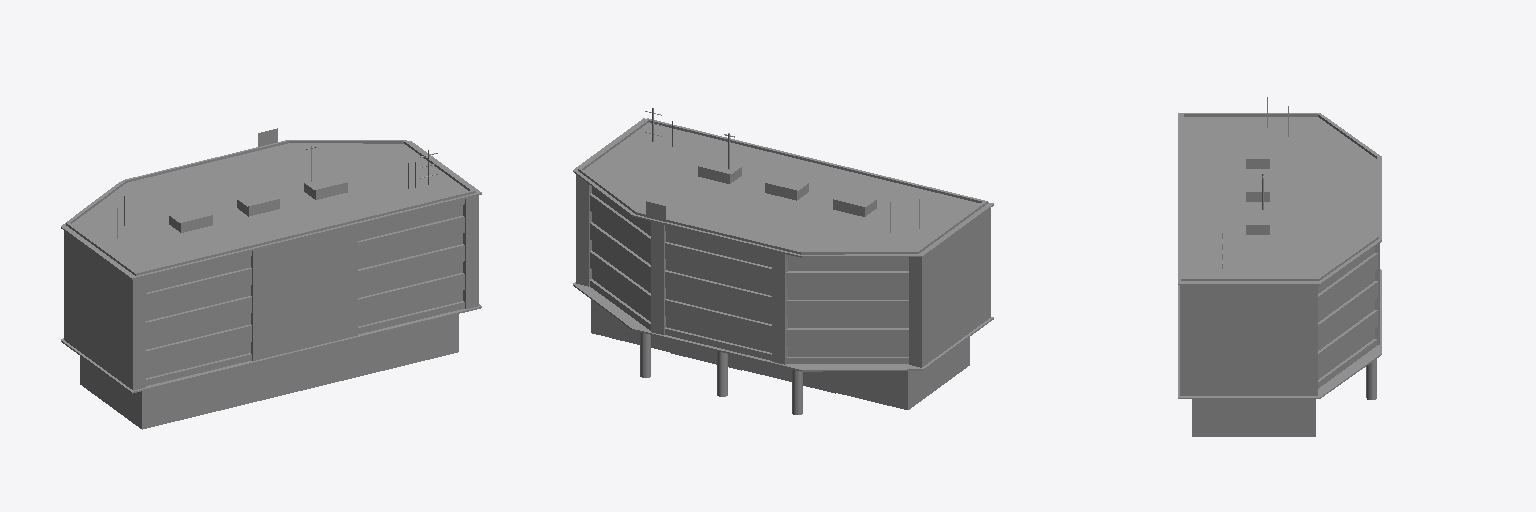
File: building2.obj
3 renders of one model, left to right at view 1: azimuth 30°, elevation 25°; view 2: azimuth 150°, elevation 25°; view 3: azimuth 270°, elevation 25°, orthographic.
Parts seen in each view (by area): view 1: Plane.030_Plane.032; view 2: Plane.030_Plane.032; view 3: Plane.030_Plane.032.
Boxes of the visible parts, box(x1,y1,x2,y2) form: Plane.030_Plane.032: box(61, 128, 481, 429); Plane.030_Plane.032: box(573, 108, 993, 414); Plane.030_Plane.032: box(1178, 97, 1381, 436).
Bounding box in the file's own units: 6.95 × 3.98 × 3.51.